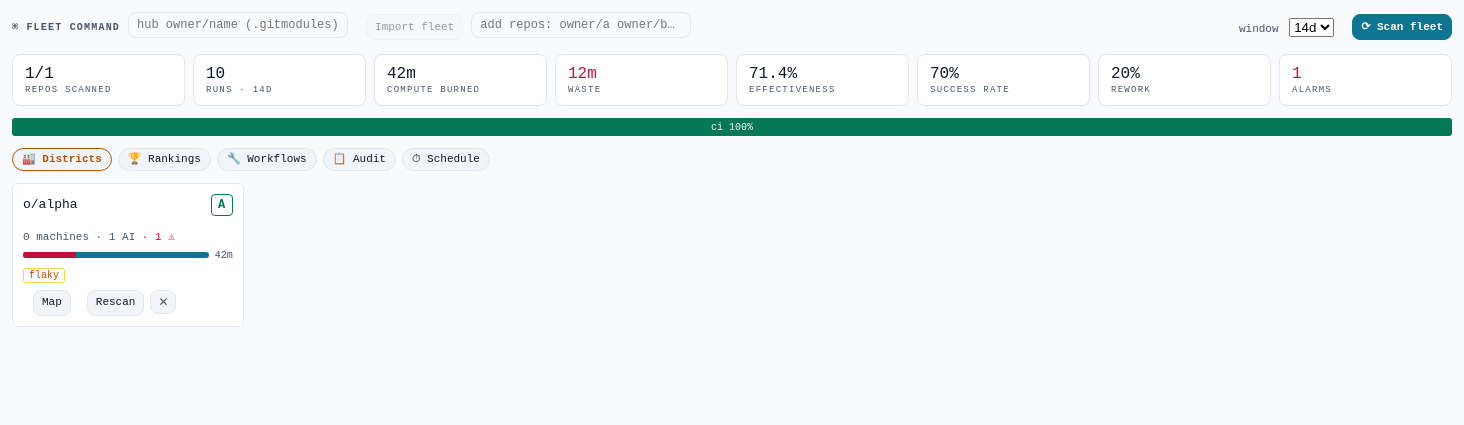
Test: FleetOpsPanel › renders the schedule board with armed kill-switch state
Click the button "⏱ Schedule".
click(446, 159)  # box top-left (402, 148), bottom-right (490, 170)
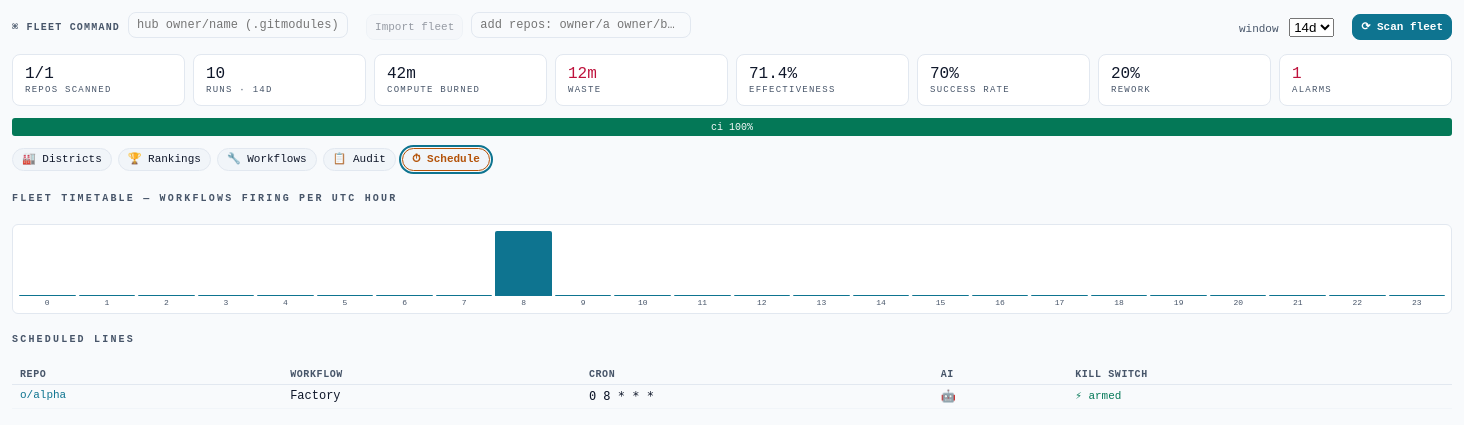
Expected: the text "Factory" is shown, top-left (282, 384), bottom-right (581, 408)
Expected: the text "⚡ armed" is shown, top-left (1075, 390), bottom-right (1121, 402)
